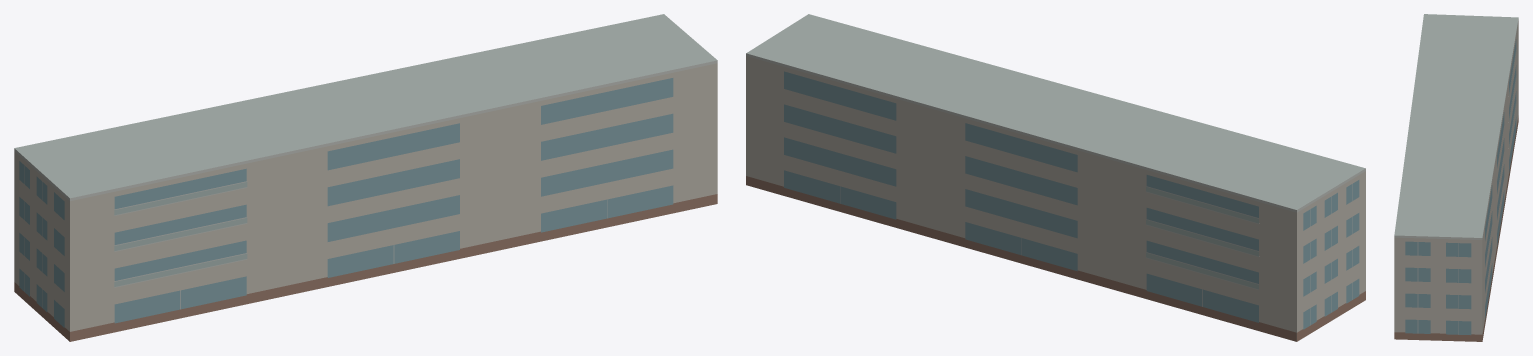
The model's file is survey-upis-32928148.glb.
3 renders of one model, left to right at view 1: azimuth 30°, elevation 25°; view 2: azimuth 150°, elevation 25°; view 3: azimuth 270°, elevation 25°, orthographic. The views are drawn at different scales.
Visible parts, largest first — view 1: survey-upis-32928148.tmp; view 2: survey-upis-32928148.tmp; view 3: survey-upis-32928148.tmp.
Boxes of the visible parts, x1,y1,x2,y2 form: survey-upis-32928148.tmp: (14,14,717,341); survey-upis-32928148.tmp: (746,14,1365,341); survey-upis-32928148.tmp: (1394,14,1518,341).
Bounding box in the file's own units: 56.43 × 12.2 × 13.25.
